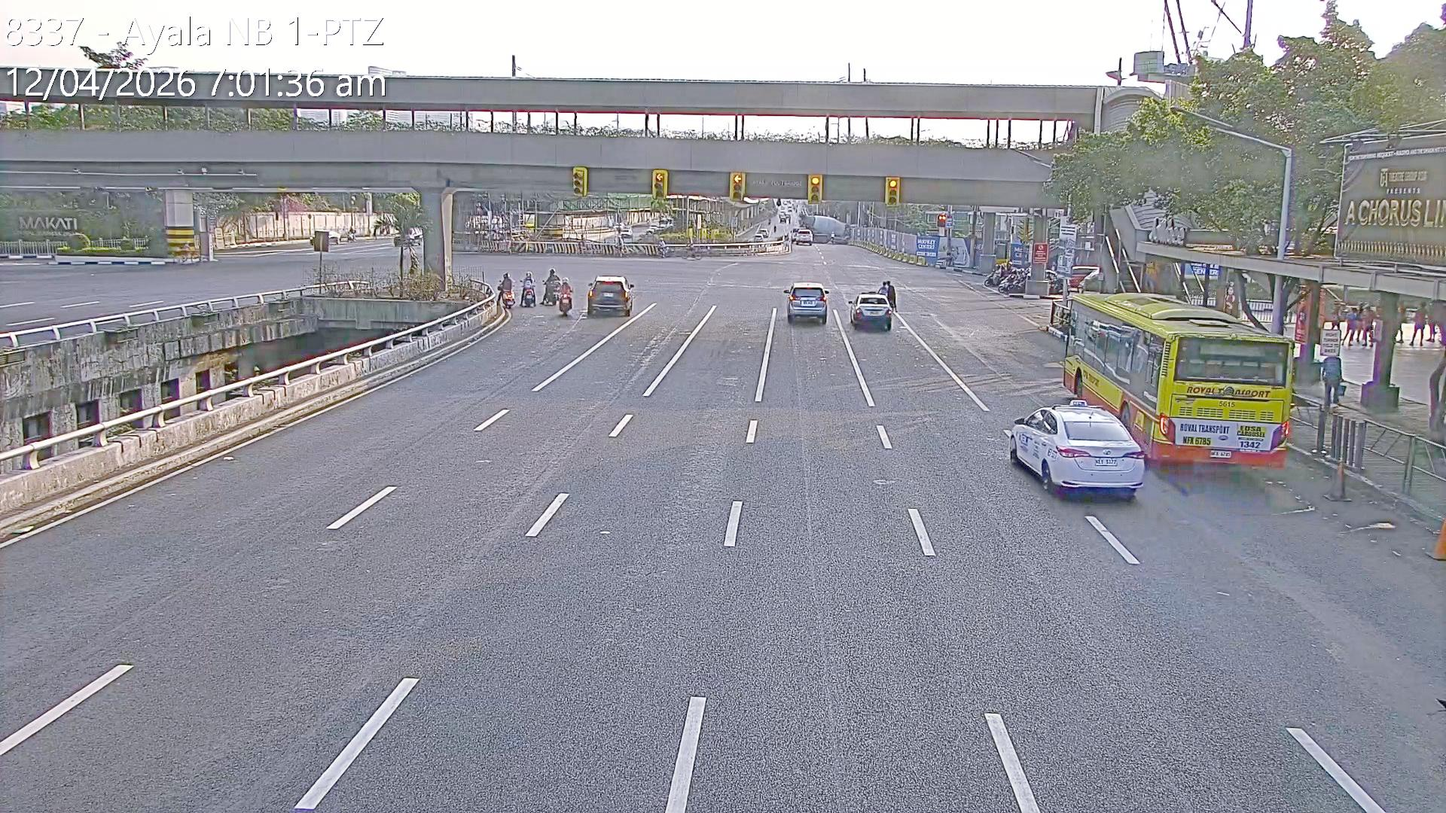Car: (1004, 400, 1139, 497), (586, 275, 633, 318), (784, 282, 831, 324), (850, 291, 894, 330)
Motor: (556, 279, 574, 315), (520, 279, 538, 307), (542, 279, 561, 305), (499, 282, 513, 307)
Not Accident: (499, 265, 637, 328), (849, 275, 900, 331)
